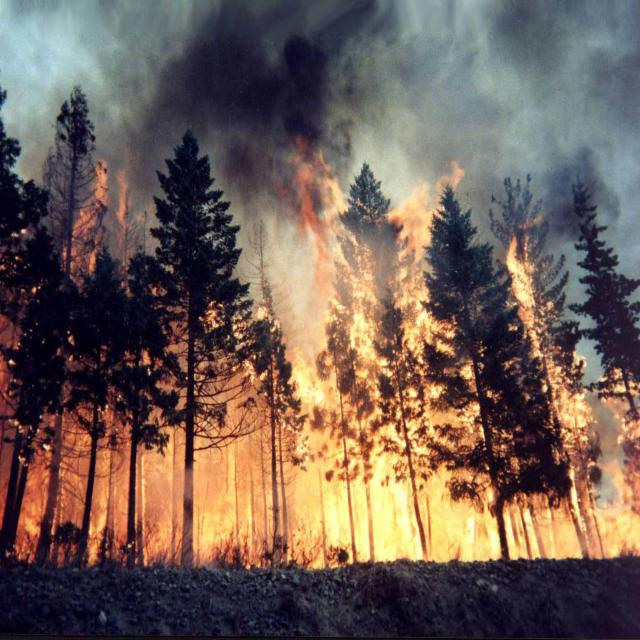Fire: (14, 179, 638, 556)
Smoke: (24, 17, 614, 227)
